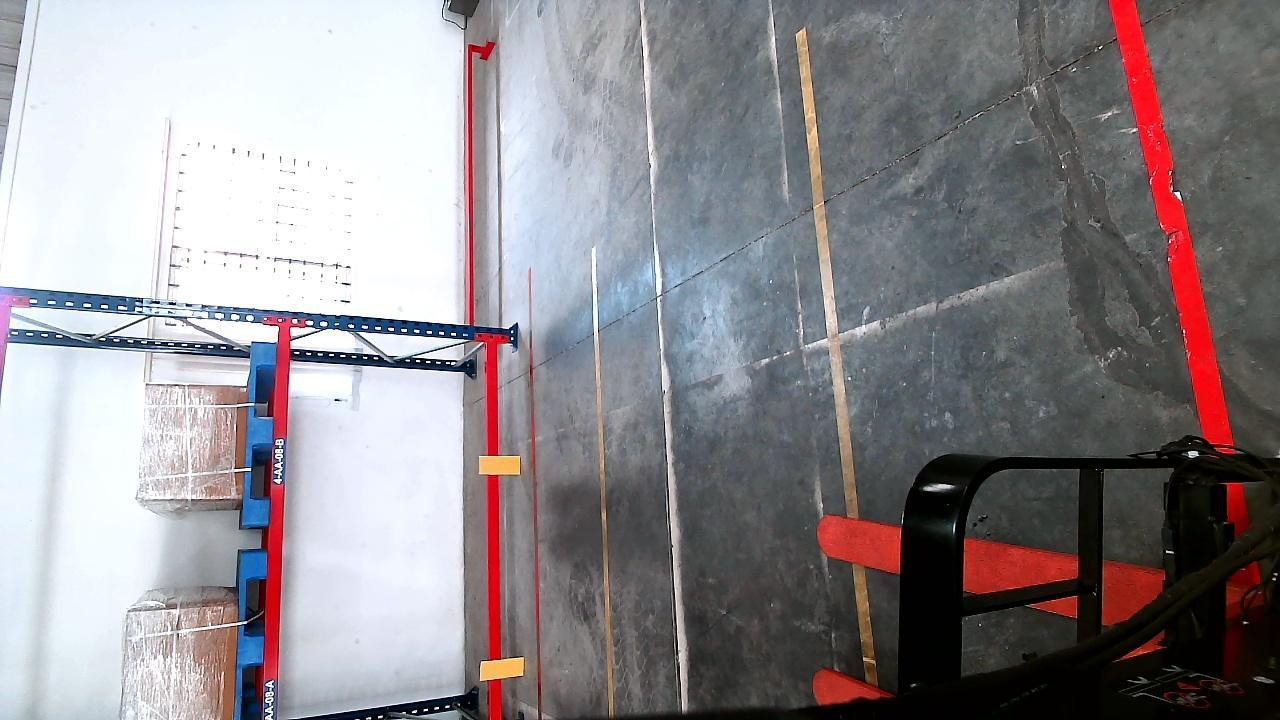h_rack: (263, 325, 292, 720), (482, 354, 507, 718)
orange_strip: (481, 654, 526, 681), (481, 453, 525, 476)
red_line: (1104, 0, 1249, 461)
small_pallet: (245, 342, 279, 535), (235, 554, 269, 703)
yellow_line: (792, 29, 878, 690), (592, 248, 618, 715)
